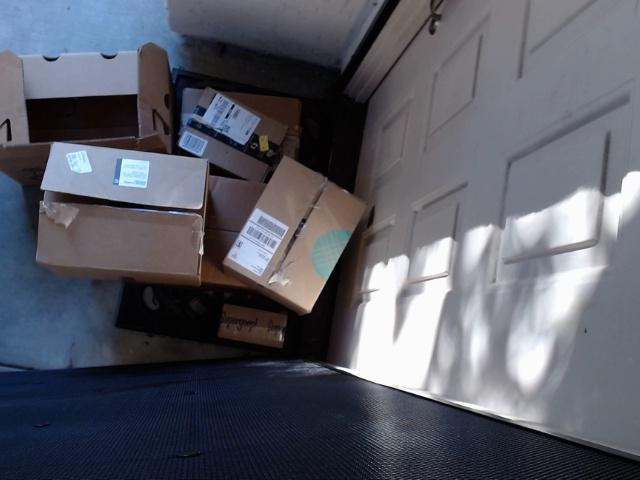box: (31, 117, 214, 283), (229, 148, 372, 314), (4, 36, 175, 170), (185, 66, 346, 177), (203, 283, 314, 357)
